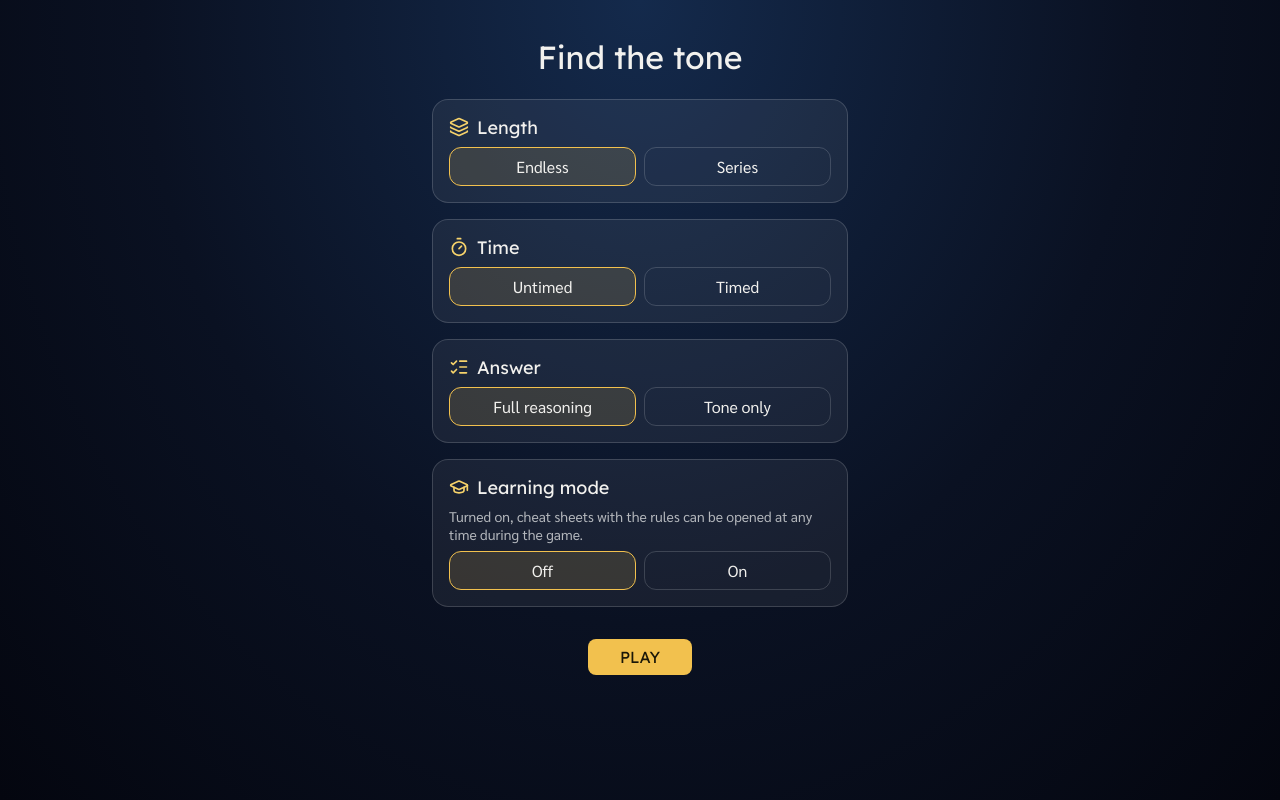
SetupPage › steps the seconds with − and +, within their range
The image size is (1280, 800).
Click the radio button labelled "Timed" at [738, 286], box [644,267,831,306]
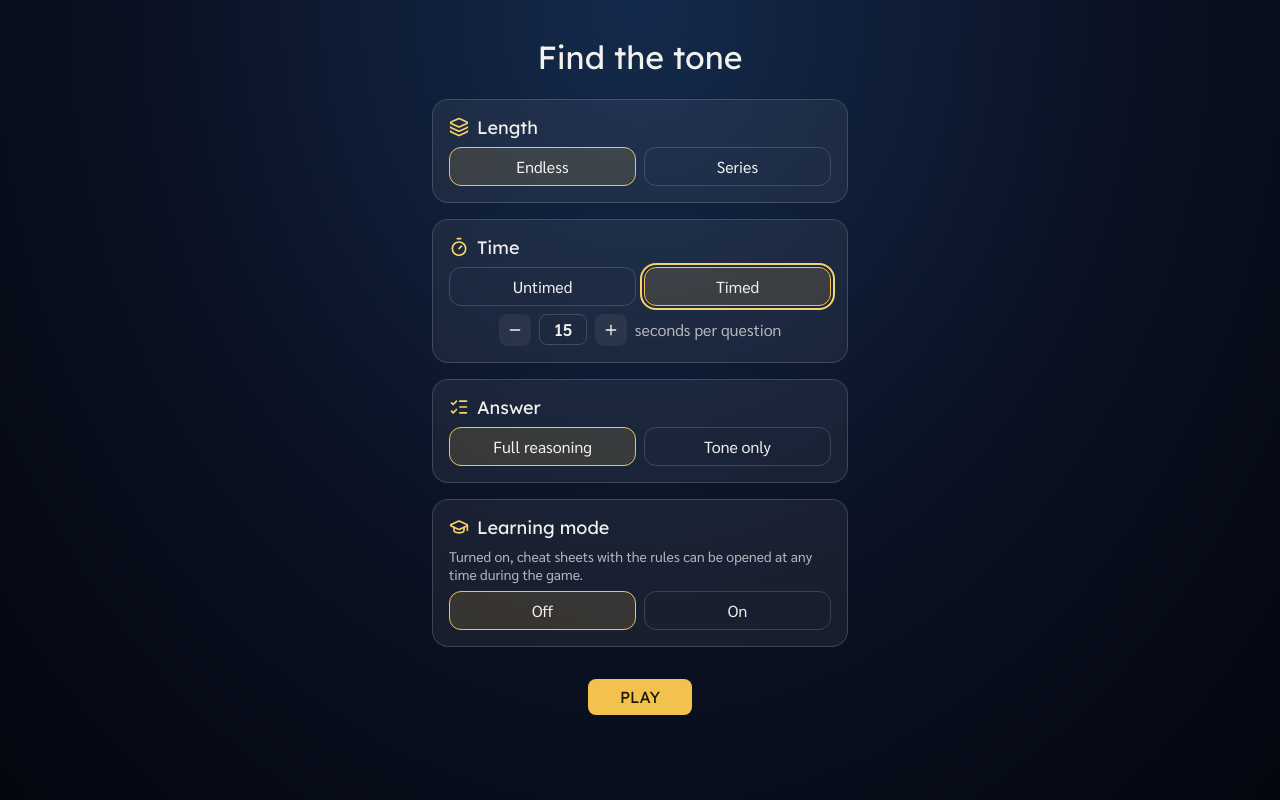
Click the button named "More seconds" at [611, 330], box [595,314,627,346]
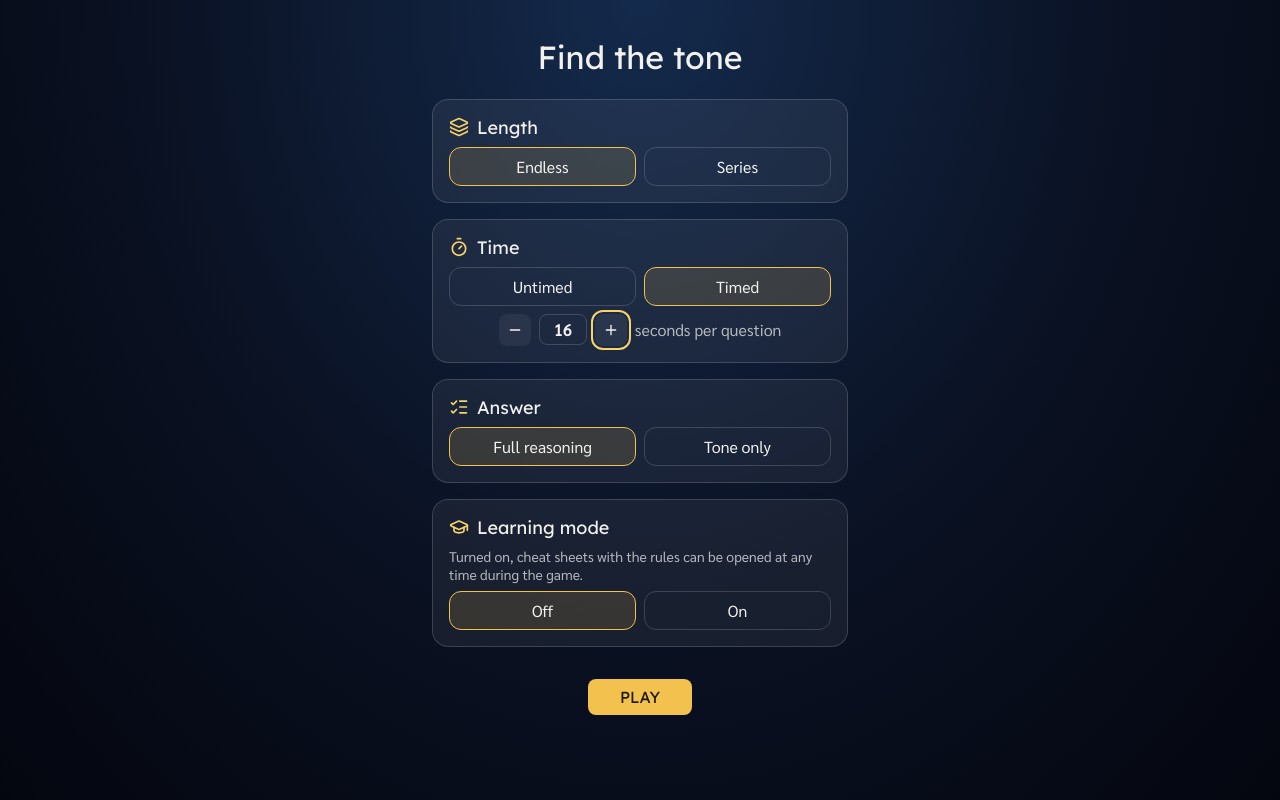
Now the number field named "Seconds per question" holds "16", box [539,314,587,345]
Click the button named "Fewer seconds" at [515, 330], box [499,314,531,346]
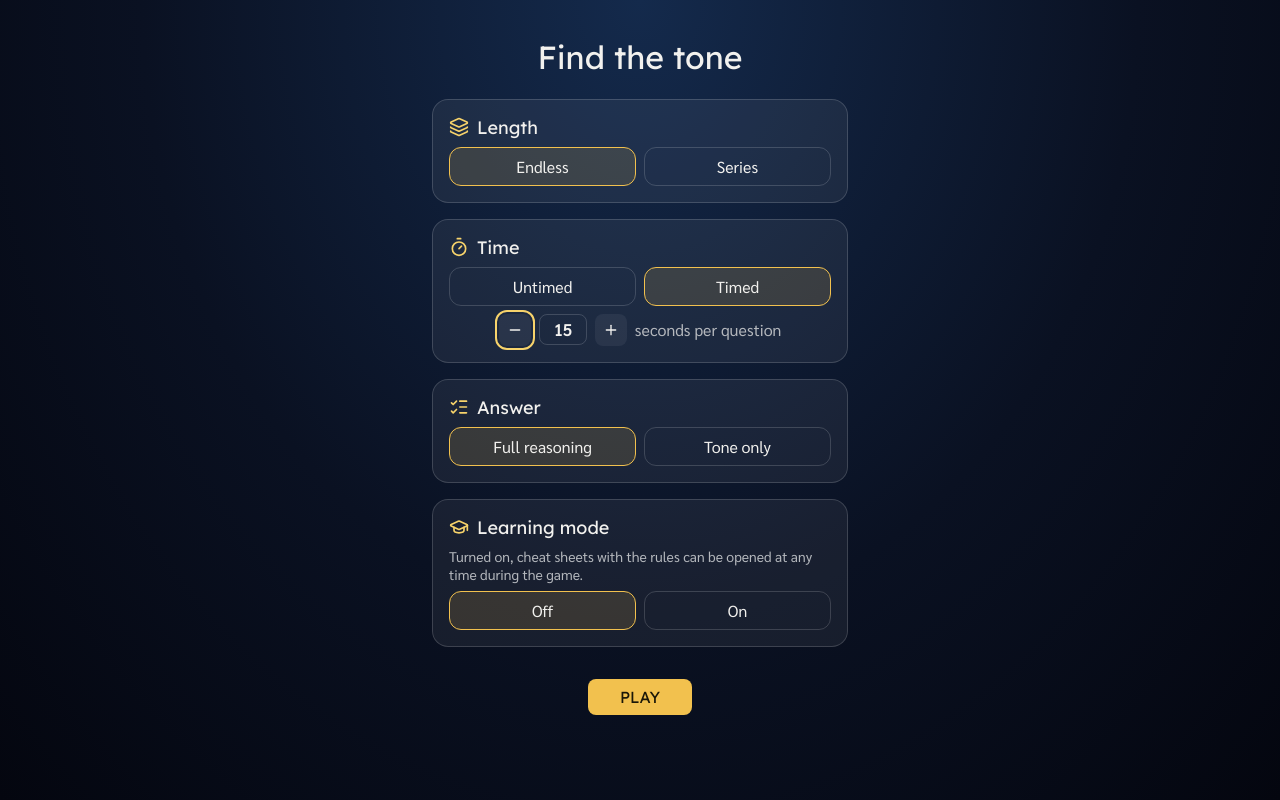
Now the number field named "Seconds per question" holds "15", box [539,314,587,345]
